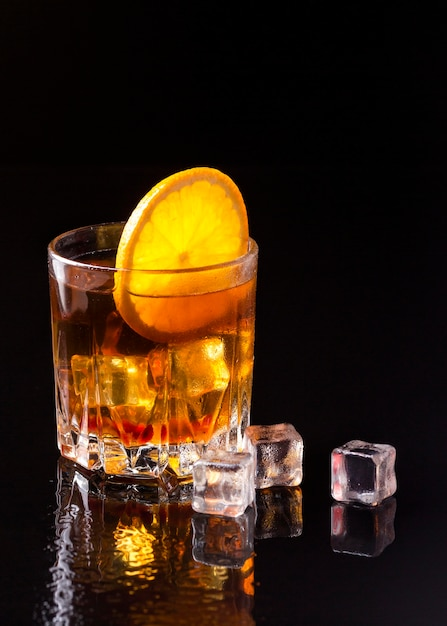alcohol: (44, 165, 260, 501)
